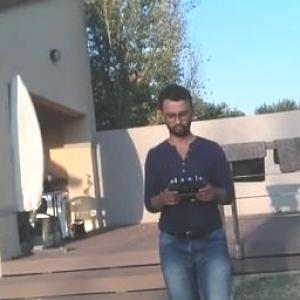follow: (137, 78, 242, 299)
